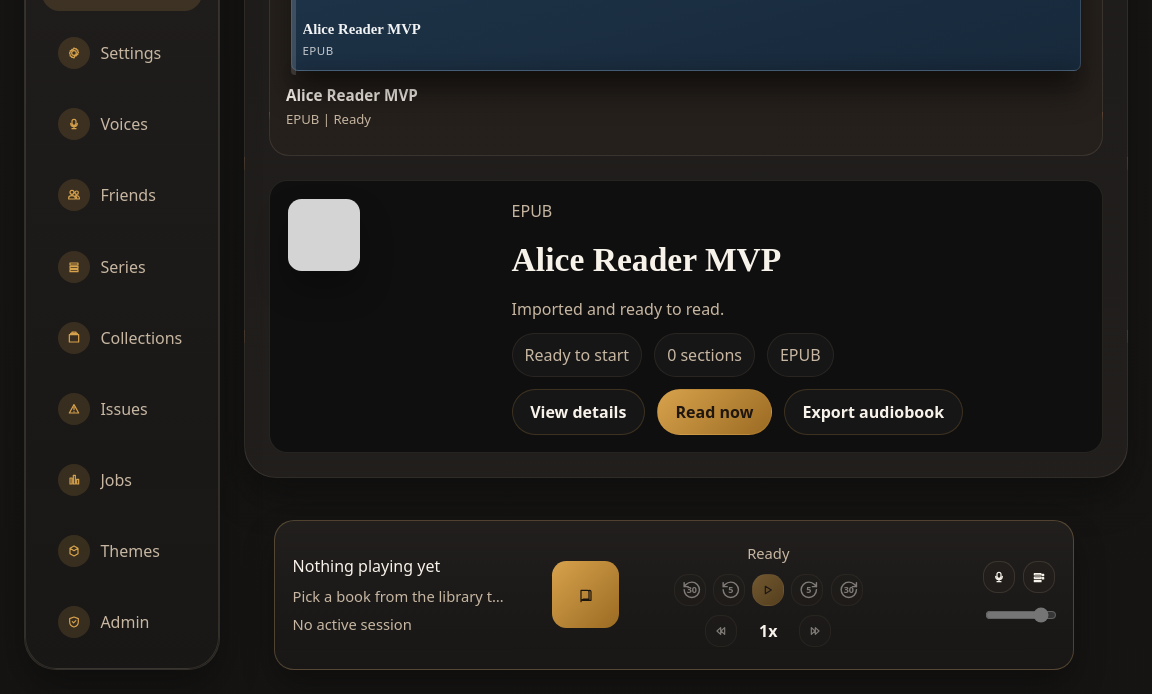
it: LibraryPage › queues an audiobook export with the existing preset and routes to jobs
(page scrolled)
Expected: the heading "Alice Reader MVP" is shown, [512, 241, 781, 278]
Click the button "Export audiobook" at (873, 412), box [784, 389, 963, 435]
(page scrolled)
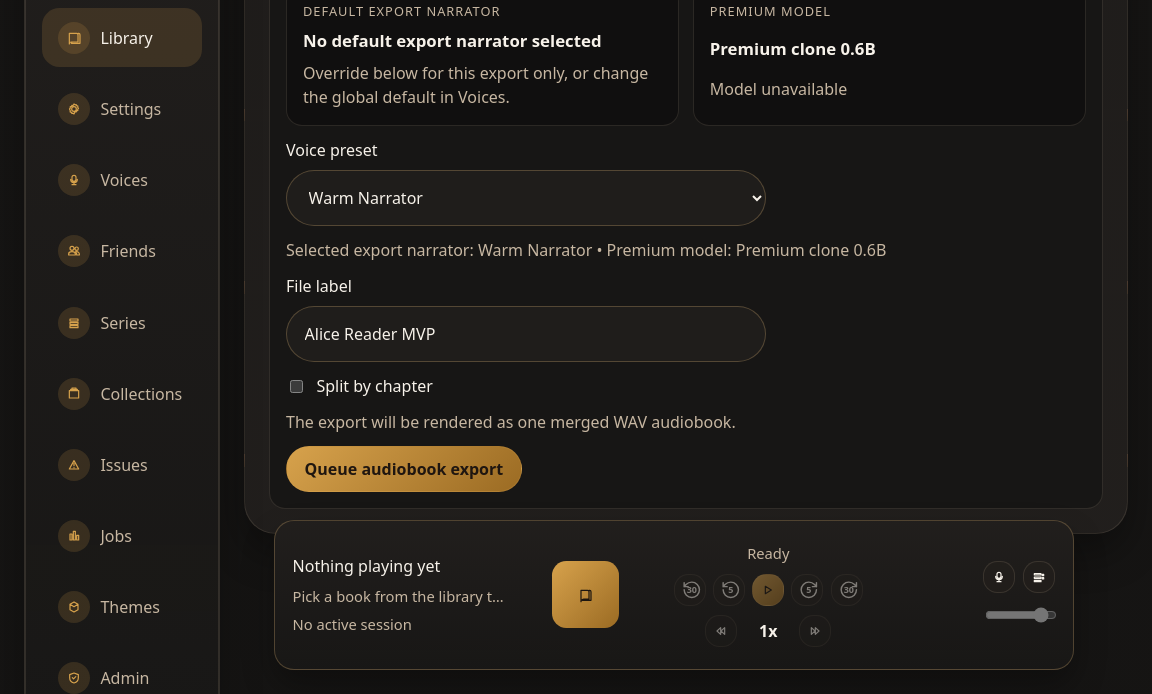
Now the dropdown labelled "Voice preset" shows "Warm Narrator", box [286, 170, 766, 226]
Now the field labelled "File label" holds "Alice Reader MVP"
Replace the text in the field labelled "File label" with "Alice Split Run" at (526, 334), box [286, 306, 766, 362]
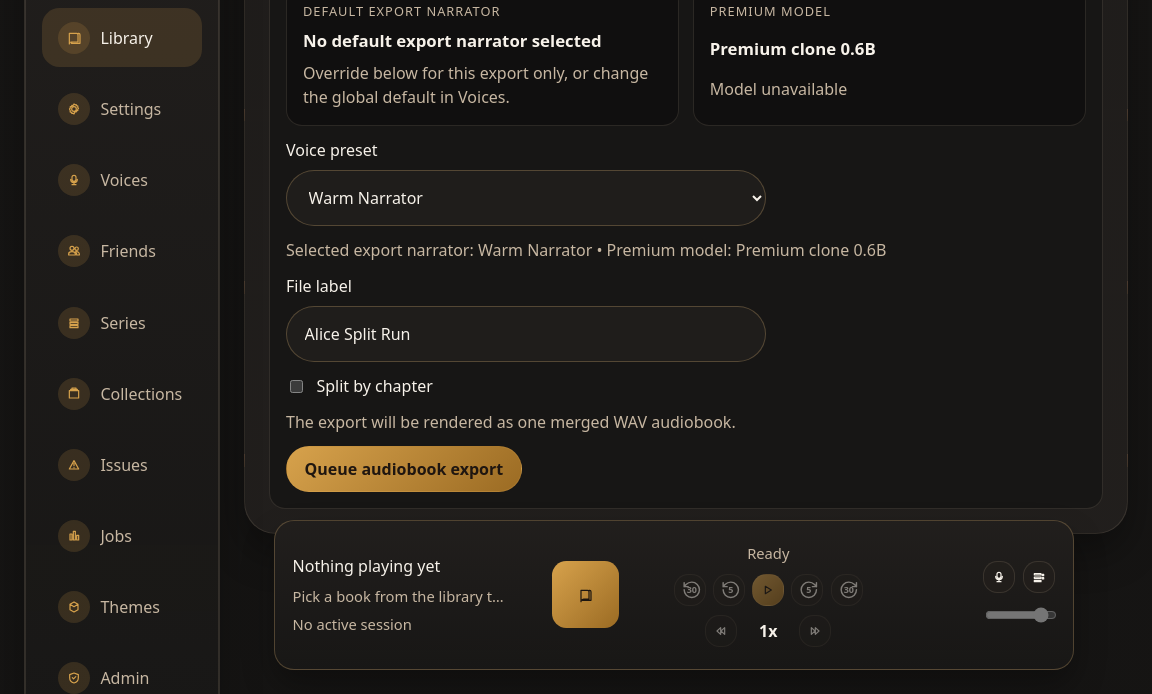
Click the checkbox labelled "Split by chapter" at (296, 386), box [290, 380, 303, 393]
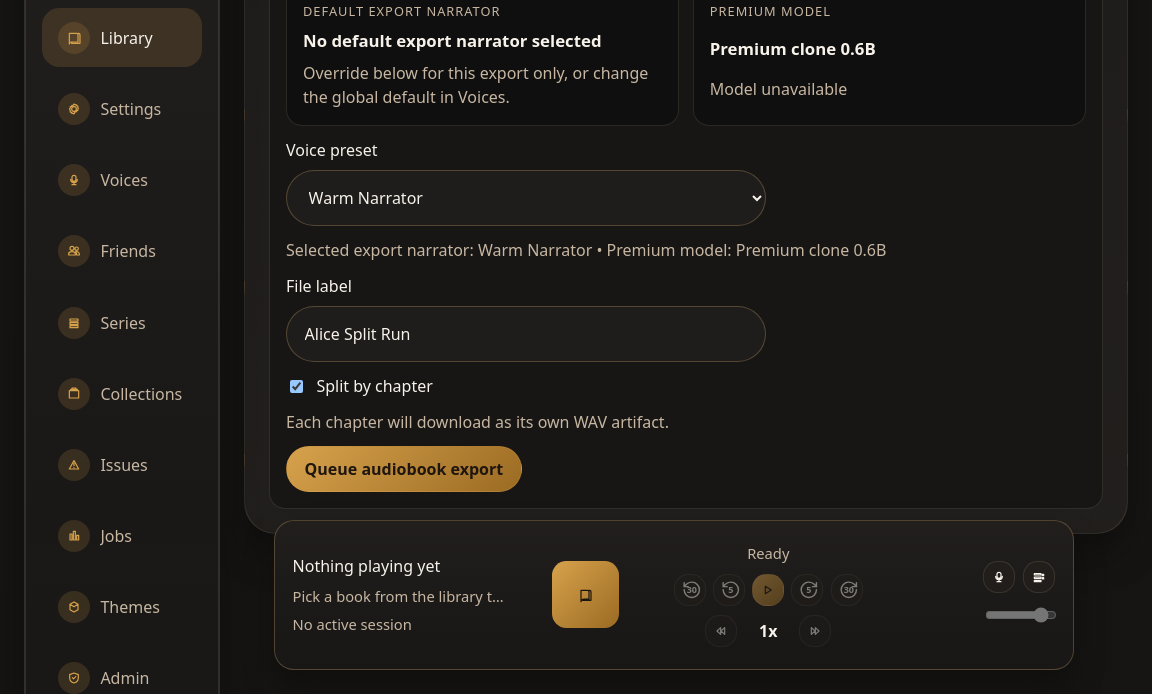
Click the button "Queue audiobook export" at (404, 469), box [286, 446, 522, 492]
(page scrolled)
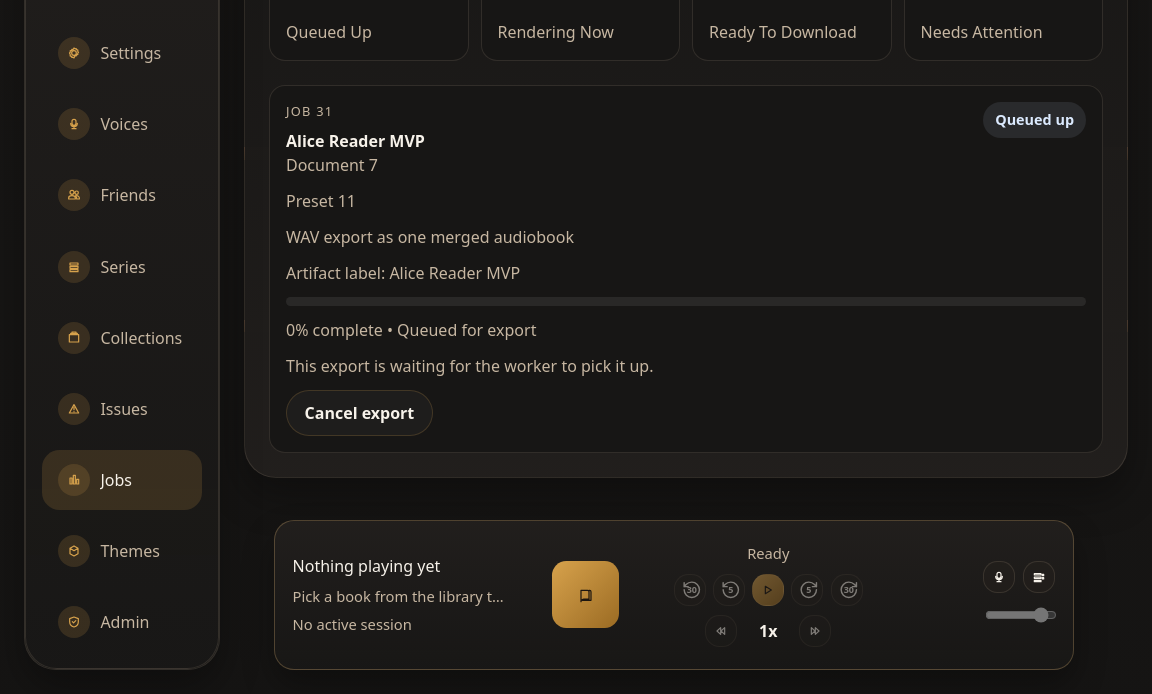
Expected: the text "Document 7" is shown, [286, 129, 425, 153]
Now the text "Preset 11" is shown, box [286, 190, 356, 212]
